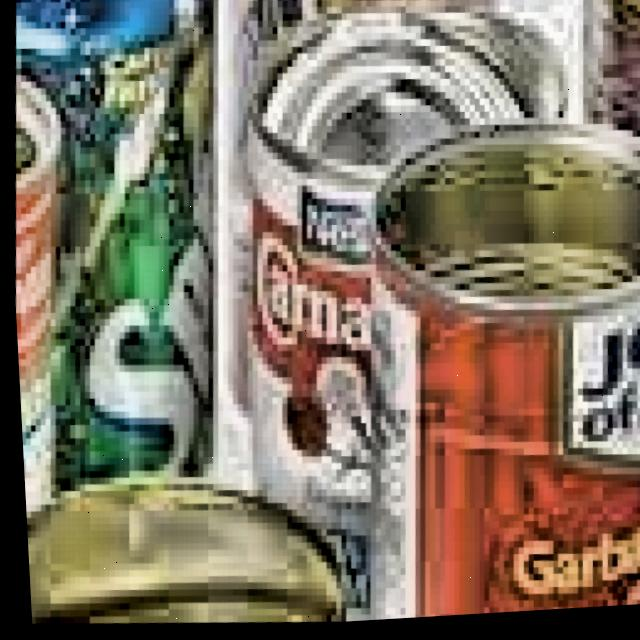metal: (204, 0, 608, 630), (332, 96, 640, 625), (189, 0, 527, 455), (0, 0, 239, 521), (19, 443, 358, 640)
